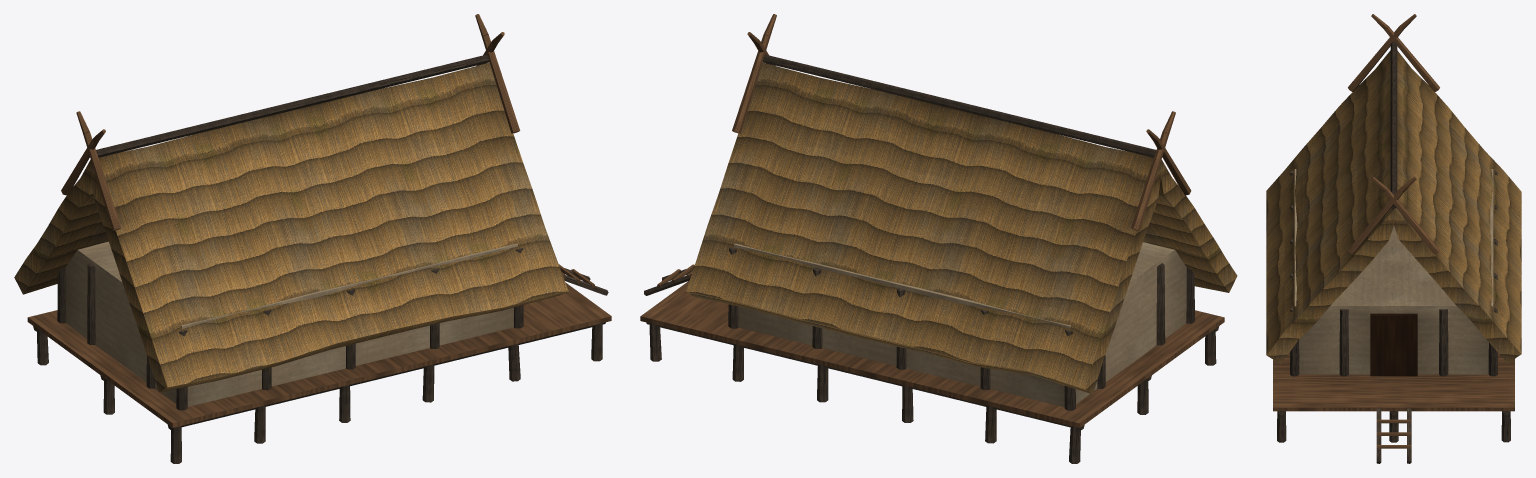
The model's file is casa_impalcato_piccola.glb.
The picture shows the model from 3 angles, left to right: view 1: azimuth 30°, elevation 25°; view 2: azimuth 150°, elevation 25°; view 3: azimuth 270°, elevation 25°; orthographic projection. The views are drawn at different scales.
Visible parts, largest first — view 1: casa_impalcato_piccola; view 2: casa_impalcato_piccola; view 3: casa_impalcato_piccola.
Boxes of the visible parts, left/top/right/bottom form: casa_impalcato_piccola: left=14, top=14, right=611, bottom=463; casa_impalcato_piccola: left=640, top=14, right=1237, bottom=463; casa_impalcato_piccola: left=1266, top=14, right=1521, bottom=463.
Size of the model in its own units: 11.41 by 6.33 by 5.9.
5 materials, 5 textured.
